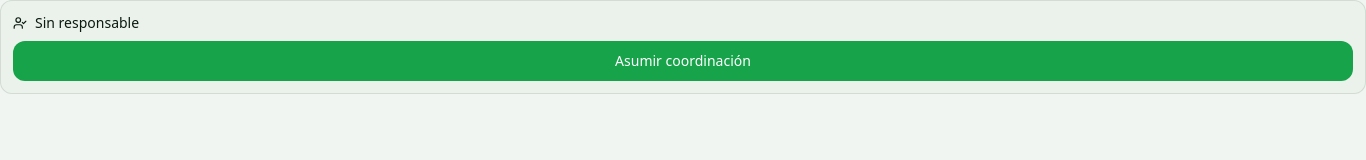
BloqueCoordinacion (HU-39) › un 409 muestra "Coordinada por <nombre del error>" y actualiza la pantalla
Click the button "Asumir coordinación" at point(683, 61), box [13,41,1353,81]
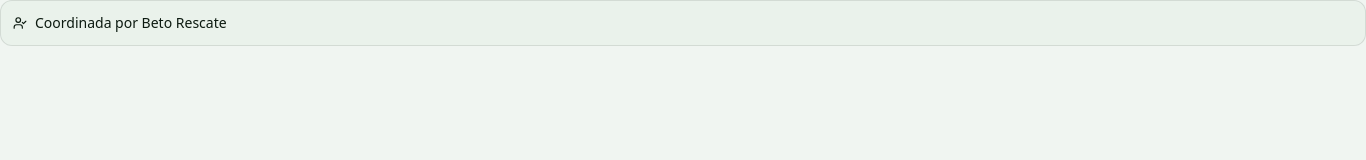
Result: the text "Coordinada por Beto Rescate" is shown at [35,13,227,33]
